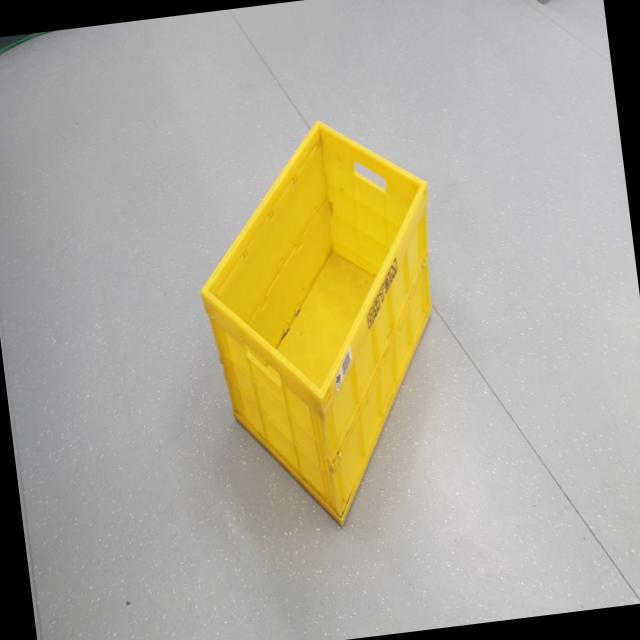box: (173, 101, 488, 568)
